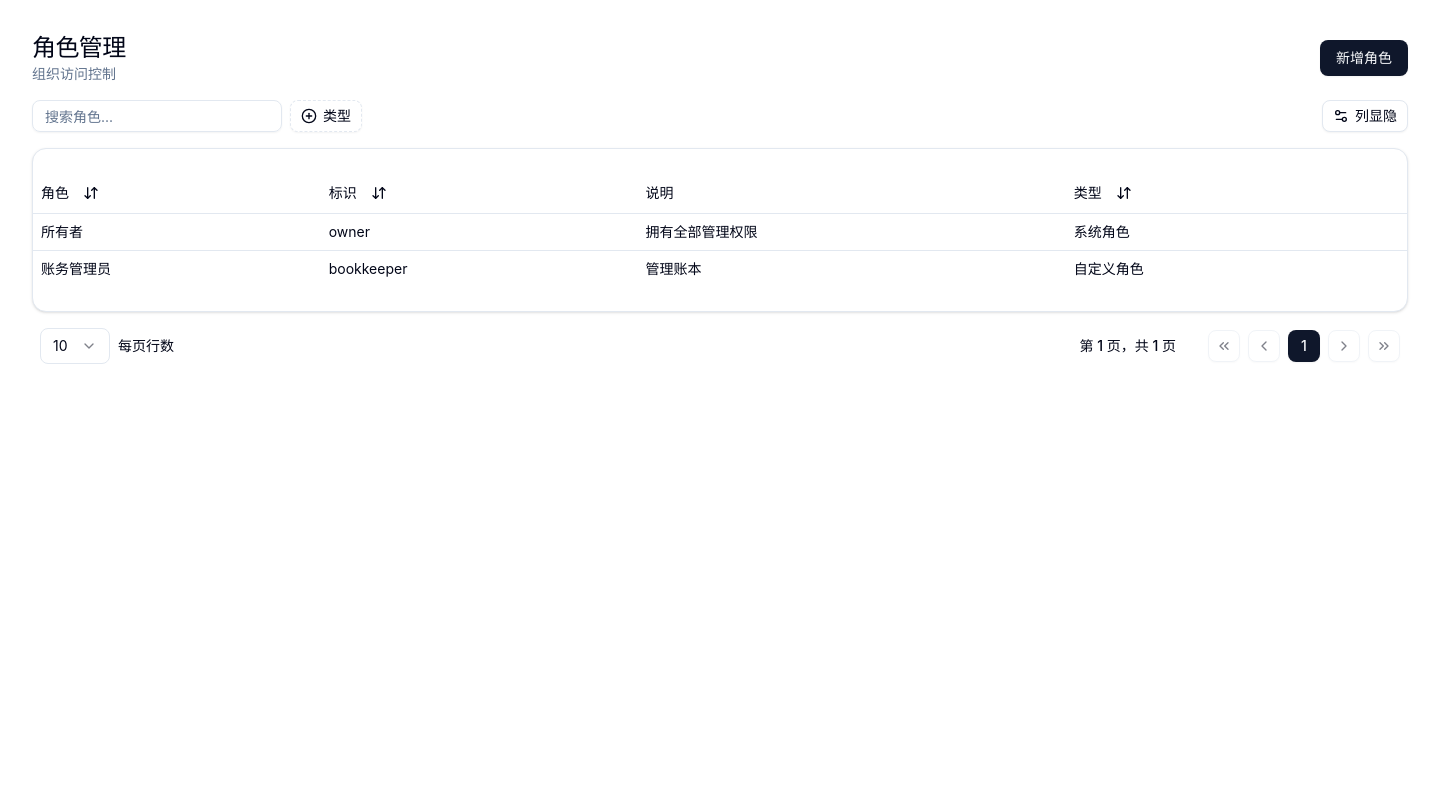
RolesPage › reports role creation validation errors before requesting the API
Click the button "新增角色". click: [1364, 58]
box: x1=1320 y1=40 x2=1408 y2=76
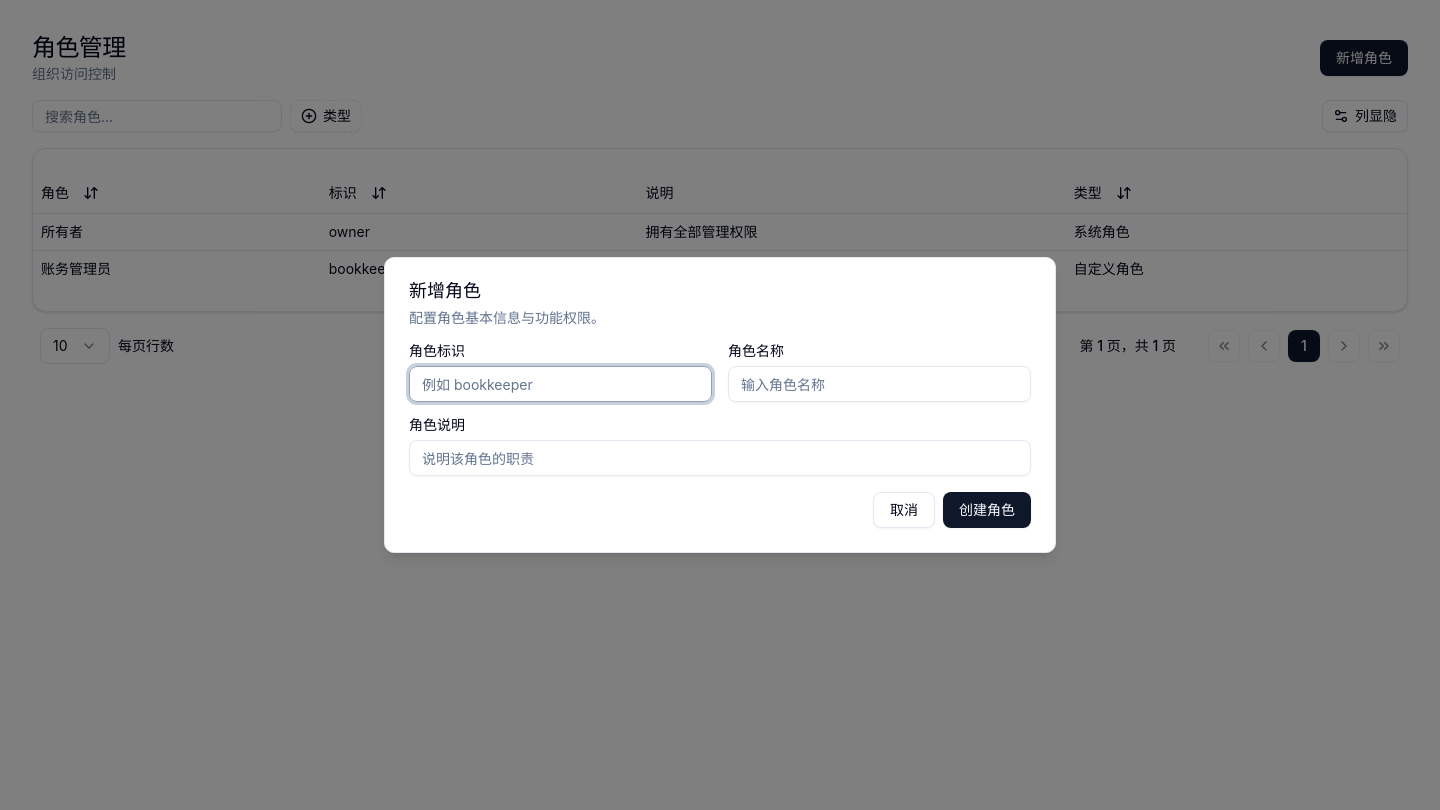
Click the button "创建角色". click: [987, 510]
box: x1=943 y1=492 x2=1031 y2=528
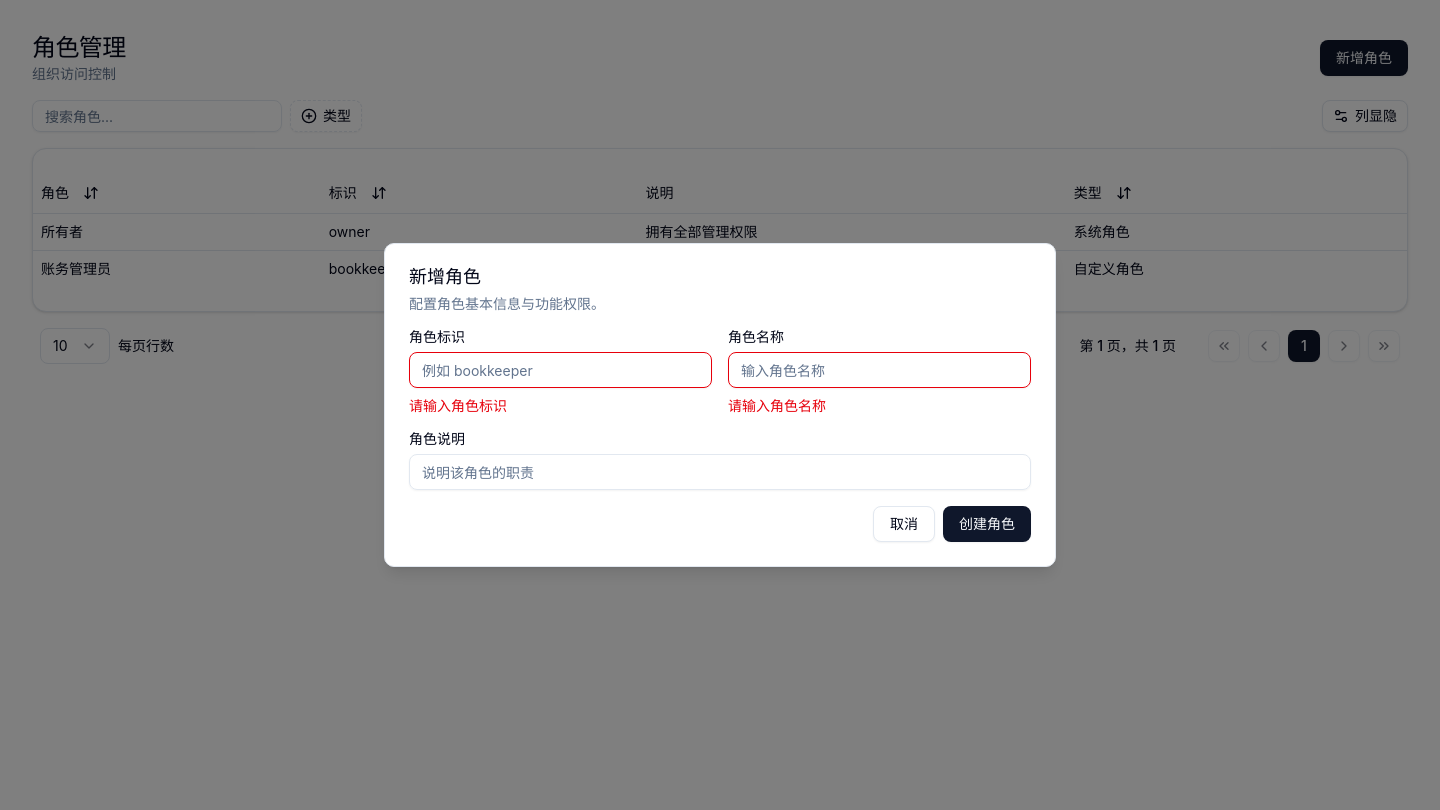
expect the text "请输入角色标识" is shown: met, box x1=409 y1=397 x2=507 y2=414
expect the text "请输入角色名称" is shown: met, box x1=728 y1=397 x2=826 y2=414
